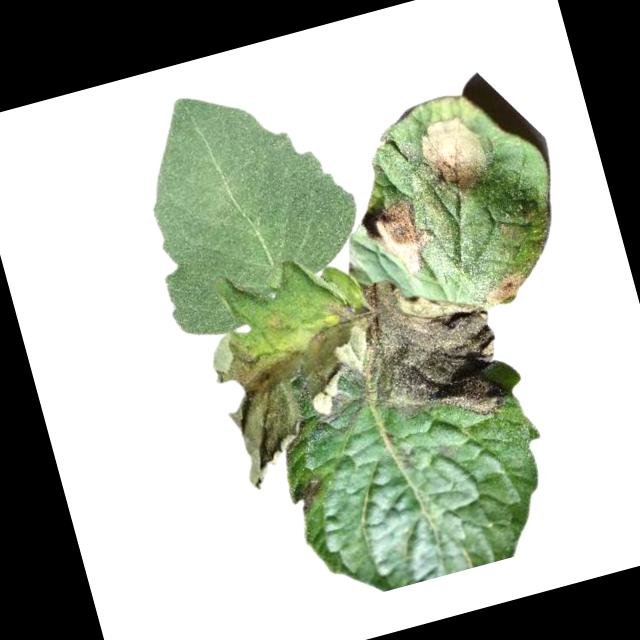Late_blight: (204, 298, 388, 494), (348, 255, 516, 441), (408, 106, 506, 207), (361, 193, 442, 285), (482, 267, 533, 306), (289, 475, 331, 520)
healthy: (118, 59, 380, 345)
